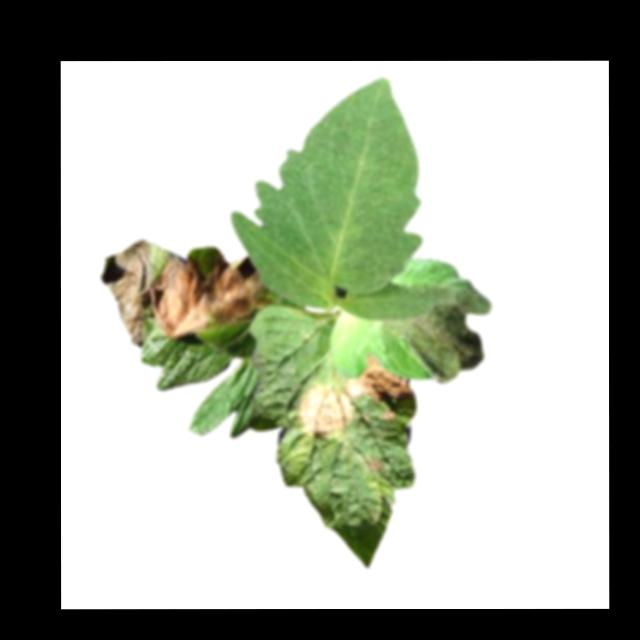Late_blight: (100, 238, 270, 347), (378, 281, 491, 384), (298, 354, 413, 438), (364, 462, 381, 474)
healthy: (228, 76, 454, 317)
